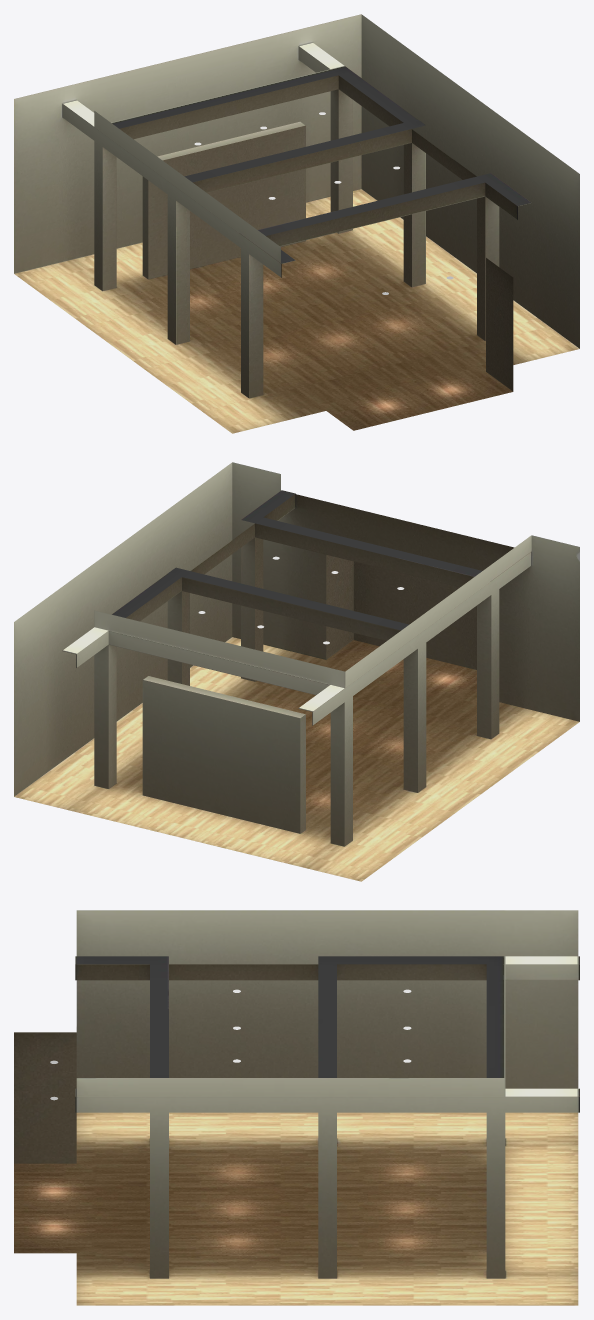
File: Virtual Gallery.gltf
3 renders of one model, top to bottom at view 1: azimuth 30°, elevation 25°; view 2: azimuth 150°, elevation 25°; view 3: azimuth 270°, elevation 25°, orthographic. The views are drawn at different scales.
Visible parts, largest first — view 1: Room; view 2: Room; view 3: Room.
Part boxes in pixels (x1,y1,x2,y2): Room: (14, 14, 579, 433); Room: (14, 462, 579, 881); Room: (14, 910, 579, 1305).
Bounding box in the file's own units: 11.02 × 5.3 × 13.54.
Materials: 2 (1 with a texture image).
